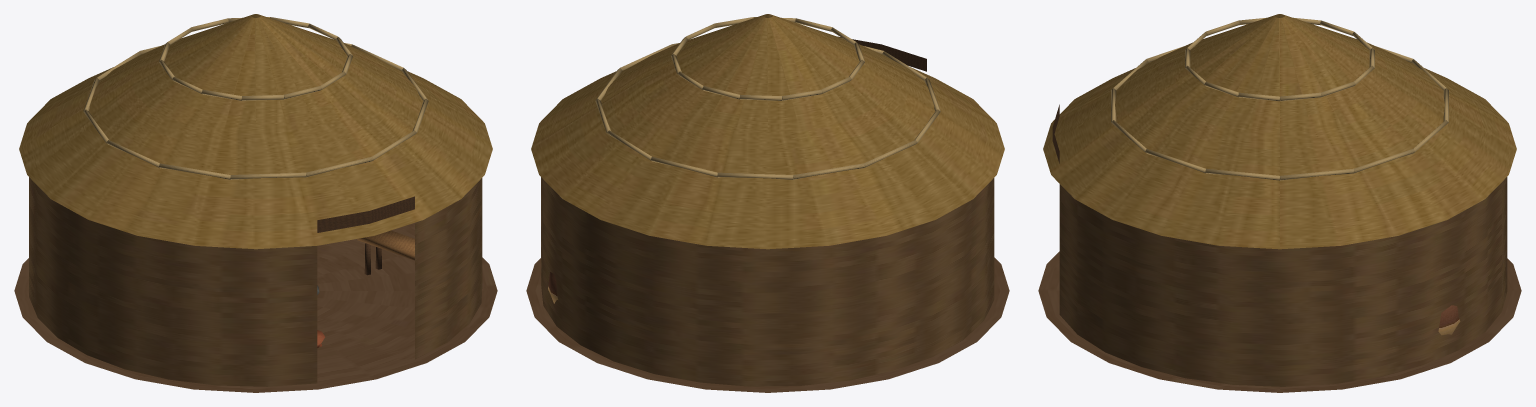
File: bohio_interior.glb
3 views of the same model, side by side, from view 1: azimuth 30°, elevation 25°; view 2: azimuth 150°, elevation 25°; view 3: azimuth 270°, elevation 25° (orthographic).
Parts seen in each view (by area): view 1: bohio_interior; view 2: bohio_interior; view 3: bohio_interior.
Part boxes in pixels (x1,y1,x2,y2): bohio_interior: [14, 14, 497, 392]; bohio_interior: [526, 14, 1009, 392]; bohio_interior: [1038, 14, 1521, 392].
Size of the model in its own units: 5.1 by 3.2 by 5.1.
Materials: 1 (1 with a texture image).
